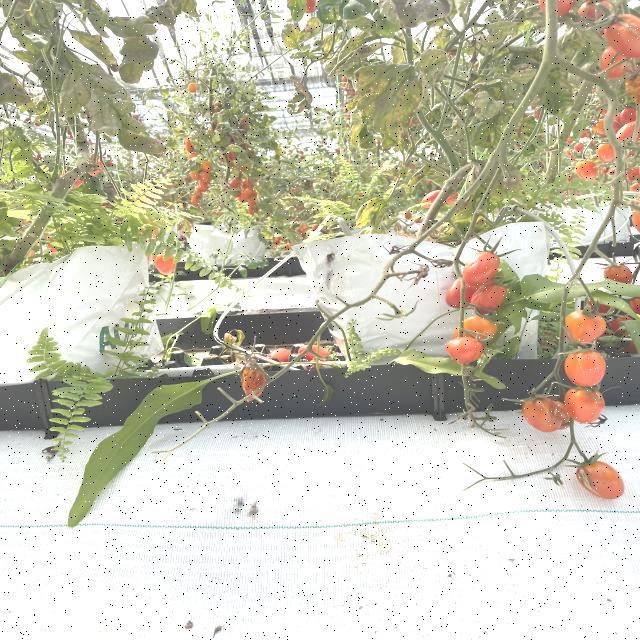Soilbag: (297, 217, 546, 366), (0, 244, 163, 383)
plant: (320, 20, 625, 223)
